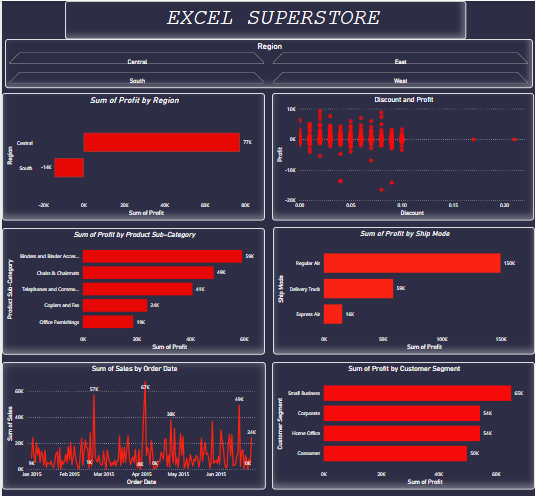

The page's visual inventory and layout, read from the dashboard file:
{"tool":"powerbi","page":{"name":"Page 1","canvas":[1280,1200],"ordinal":0},"visuals":[{"type":"barChart","fields":{"Category":["Orders.Region"],"Y":["Sum(Orders.Profit)"]},"box":[0,220.4,630.6,306.1],"z":0},{"type":"barChart","fields":{"Y":["Sum(Orders.Profit)"],"Category":["Orders.Product Sub-Category"]},"box":[0,544.9,630.6,304.1],"z":1000},{"type":"scatterChart","fields":{"X":["Orders.Discount"],"Y":["Orders.Profit"]},"box":[649,220.4,628.6,306.1],"z":2000},{"type":"clusteredBarChart","fields":{"Y":["Sum(Orders.Profit)"],"Category":["Orders.Ship Mode"]},"box":[651,542.9,628.6,306.1],"z":3000},{"type":"lineChart","fields":{"Y":["Sum(Orders.Sales)"],"Category":["Orders.Order Date"]},"box":[0,867.3,632.7,306.1],"z":4000},{"type":"clusteredBarChart","fields":{"Category":["Orders.Customer Segment"],"Y":["Sum(Orders.Profit)"]},"box":[649,867.3,630.6,306.1],"z":5000},{"type":"textbox","box":[151.3,0,963.2,92.1],"z":6000},{"type":"advancedSlicerVisual","fields":{"Values":["Orders.Region"]},"box":[6.7,91.7,1266.7,118.3],"z":7000}]}

Visuals, with their boxes in screenshot pixels (x1, y1, x2, y2), scaled from the page's 1280x1200 canvas onto the 535x496 screenshot:
barChart - Orders.Region x Sum(Orders.Profit): x1=0 y1=91 x2=264 y2=218
barChart - Sum(Orders.Profit) x Orders.Product Sub-Category: x1=0 y1=225 x2=264 y2=351
scatterChart - Orders.Discount x Orders.Profit: x1=271 y1=91 x2=534 y2=218
clusteredBarChart - Sum(Orders.Profit) x Orders.Ship Mode: x1=272 y1=224 x2=534 y2=351
lineChart - Sum(Orders.Sales) x Orders.Order Date: x1=0 y1=358 x2=264 y2=485
clusteredBarChart - Orders.Customer Segment x Sum(Orders.Profit): x1=271 y1=358 x2=534 y2=485
textbox: x1=63 y1=0 x2=466 y2=38
advancedSlicerVisual - Orders.Region: x1=3 y1=38 x2=532 y2=87
